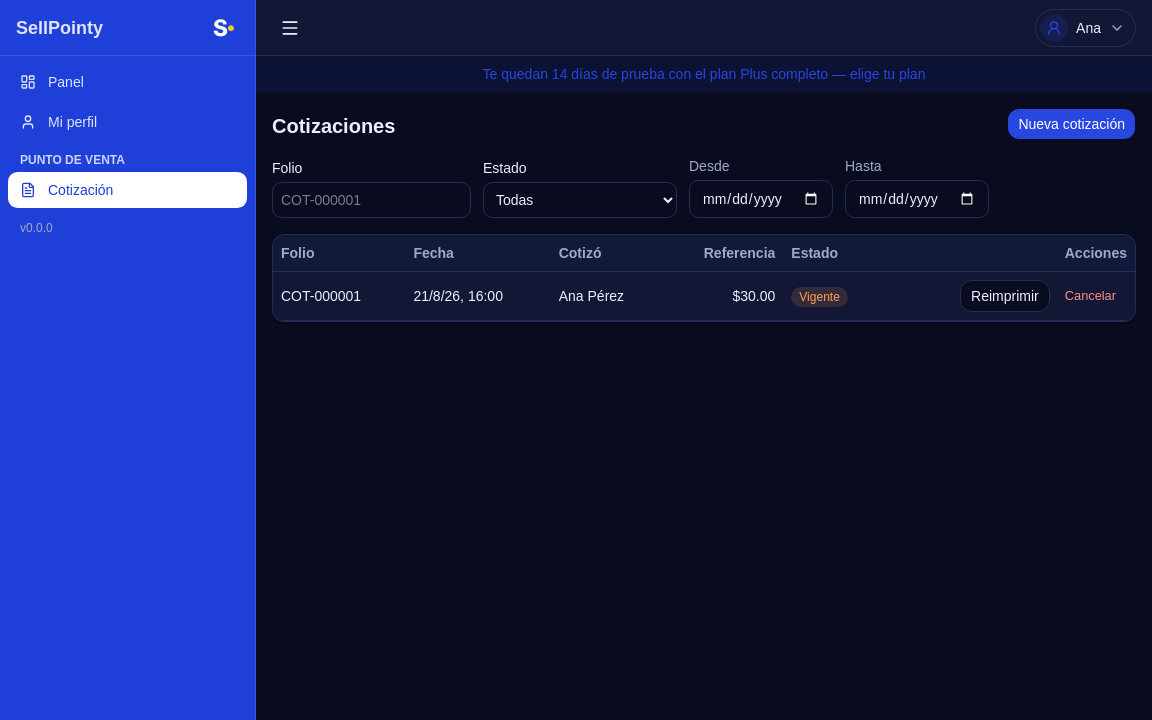
Test: Cotización (F4-QUOTE-03 / F4-QUOTE-04) › cancelar desde la lista (F10-MANFIX-12) › confirmar la cancela y cierra el aviso
expect the text "COT-000001" is shown: met, box [273,272,405,320]
Step 1. Click the button "Cancelar" → (1090, 296), box [1054,282,1127,310]
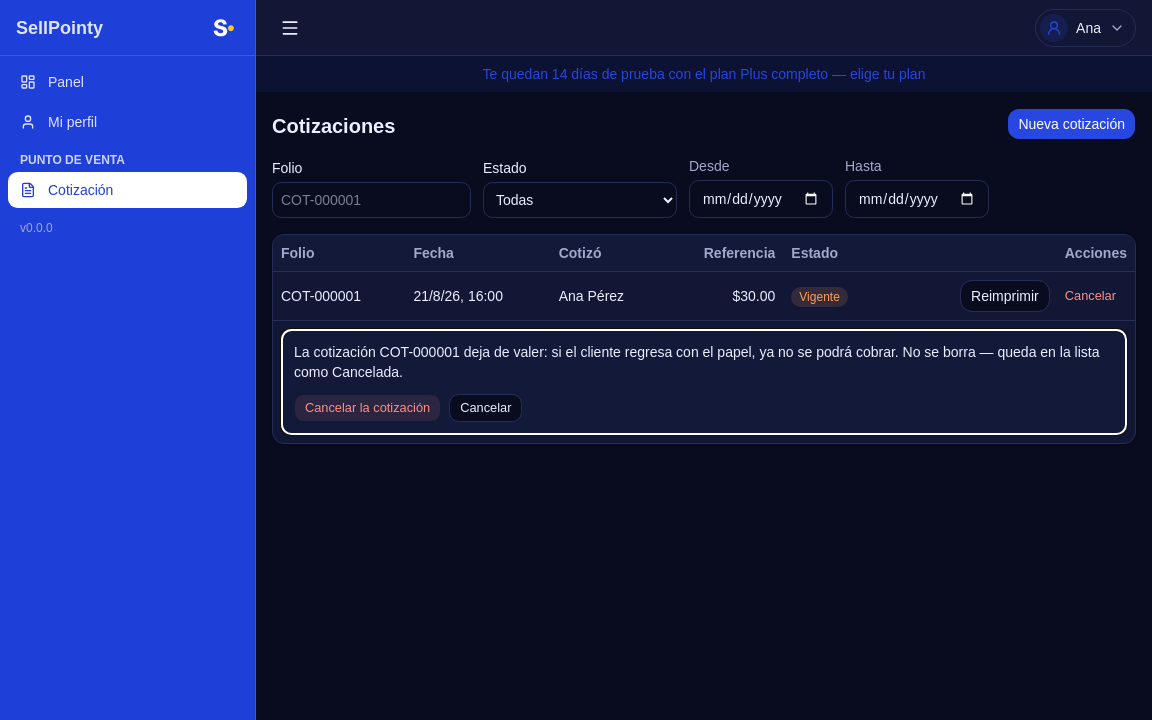
Step 2. Click the button "Cancelar la cotización" → (368, 408), box [294,394,441,422]
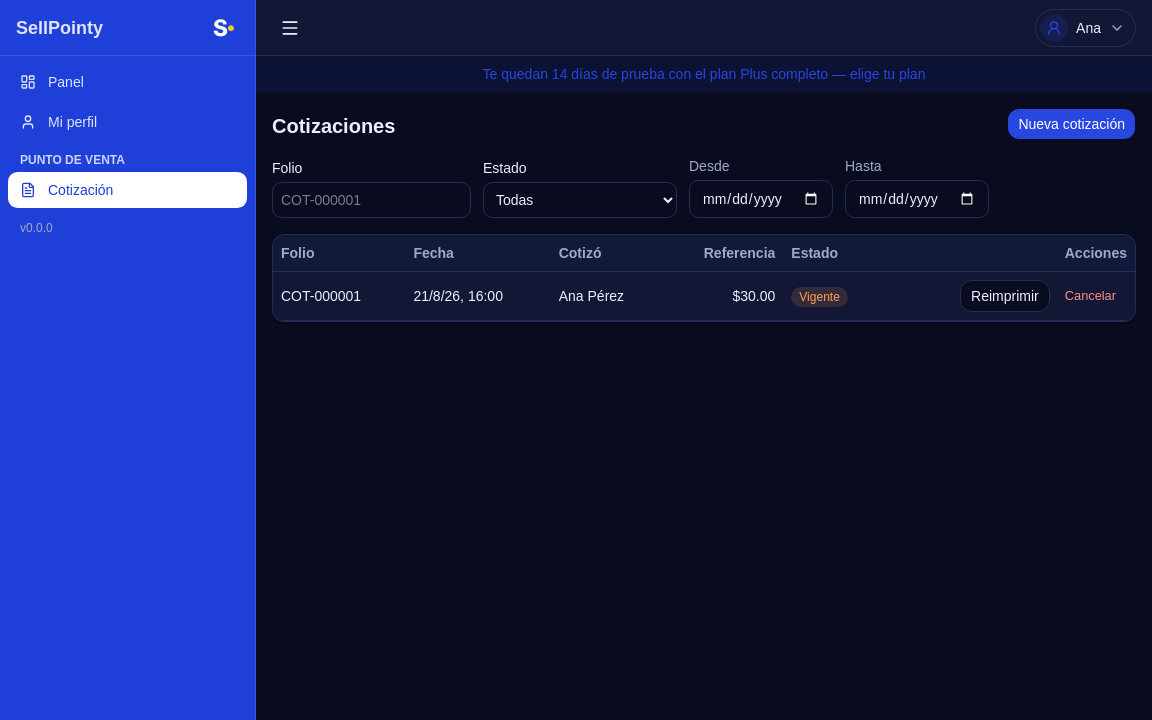
expect the dialog is gone: met
